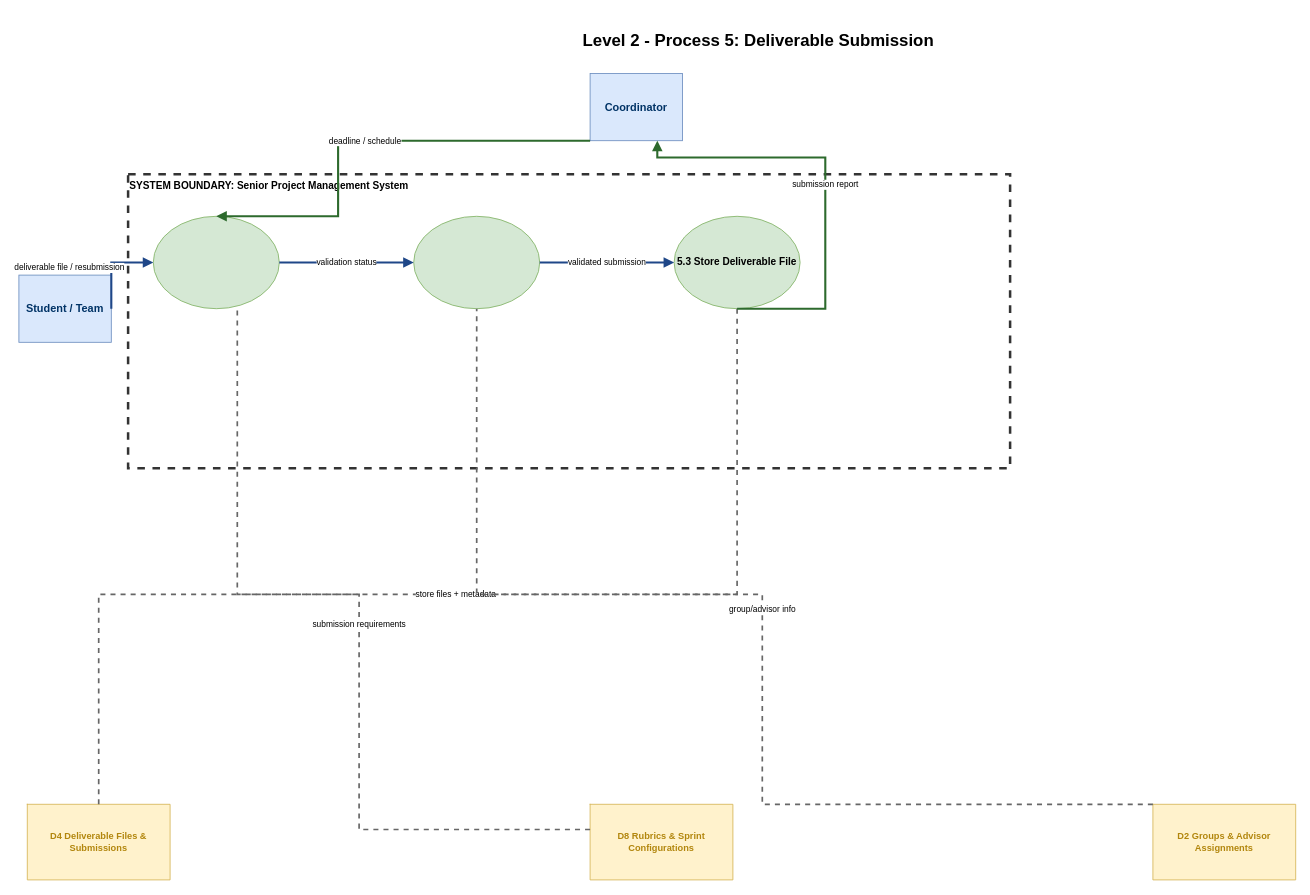
The diagram is 1310 pixels wide and 895 high, and some of its shapes have lost their labels. Each missing label, with the centre of its shape:
"5.1 Accept & Validate Submission" belongs at [215,262].
"5.2 Check Committee Eligibility" belongs at [476,262].
